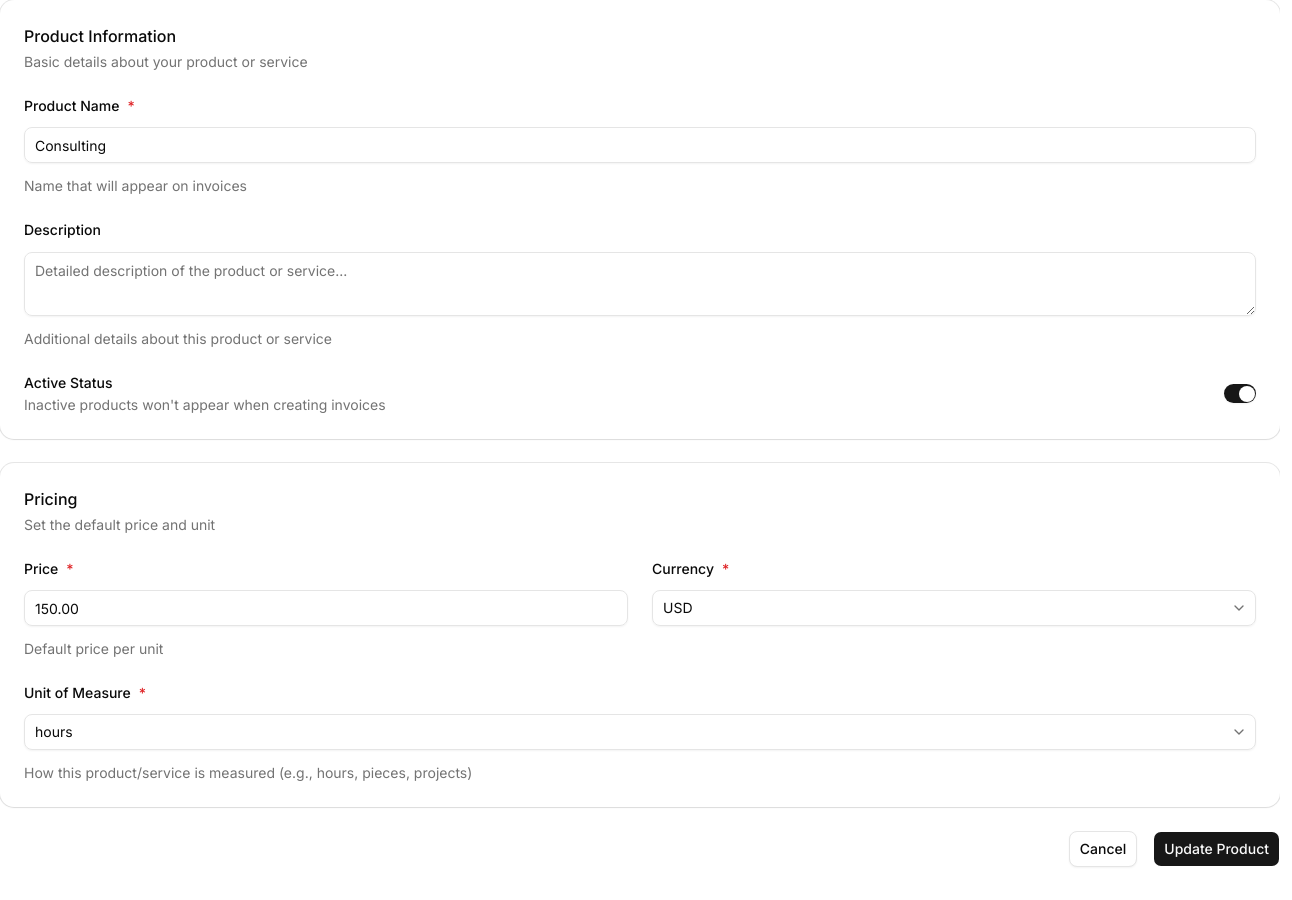
it: ProductForm — price and currency lock (SCR-12) › price -1 shows Price can't be negative. under the price, nothing sent
Replace the text in the field with placeholder "100.00" with "-1" at (326, 608), box [24,590,628,626]
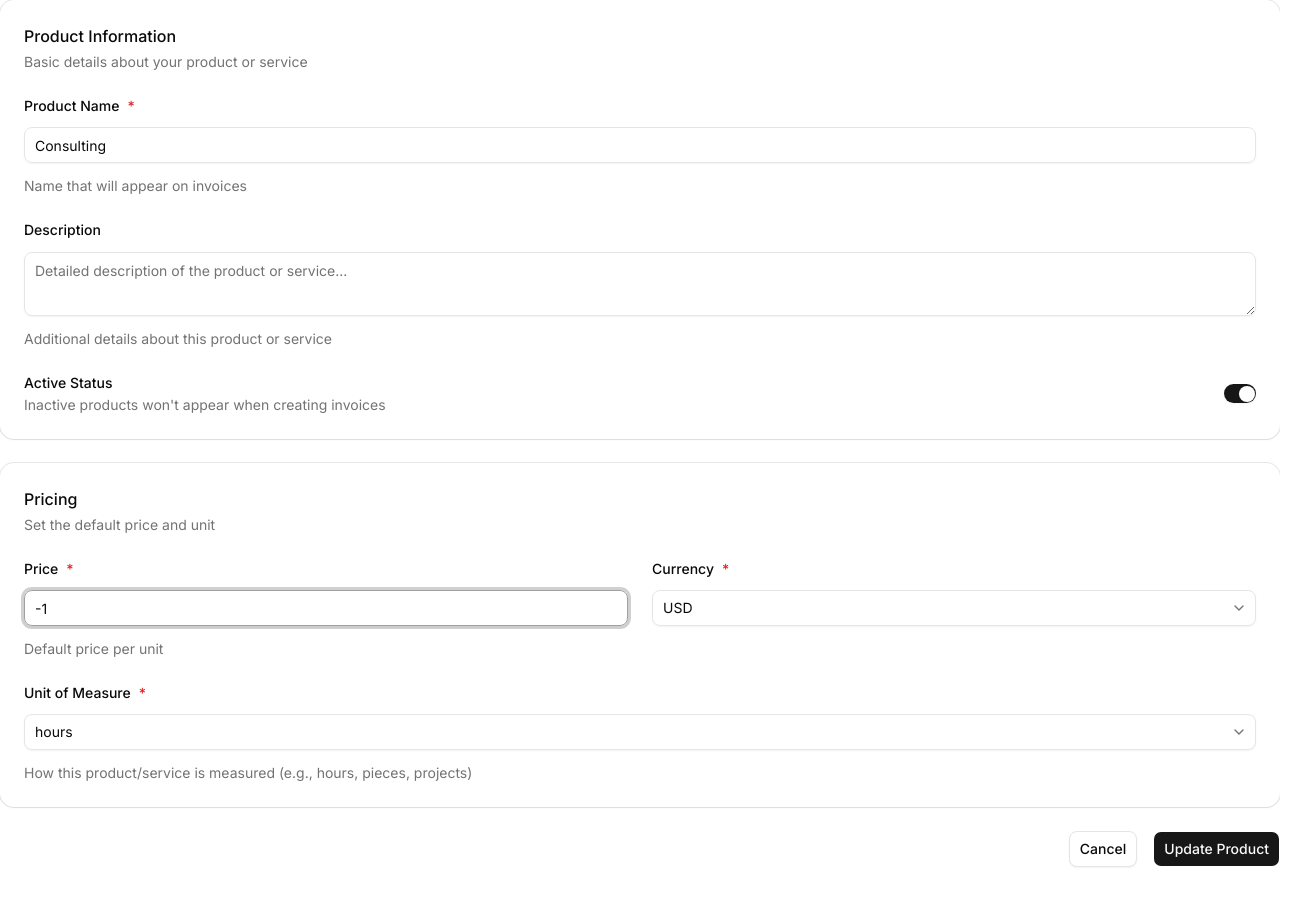
Click the button "Update Product" at (1217, 849), box [1153,831,1280,867]
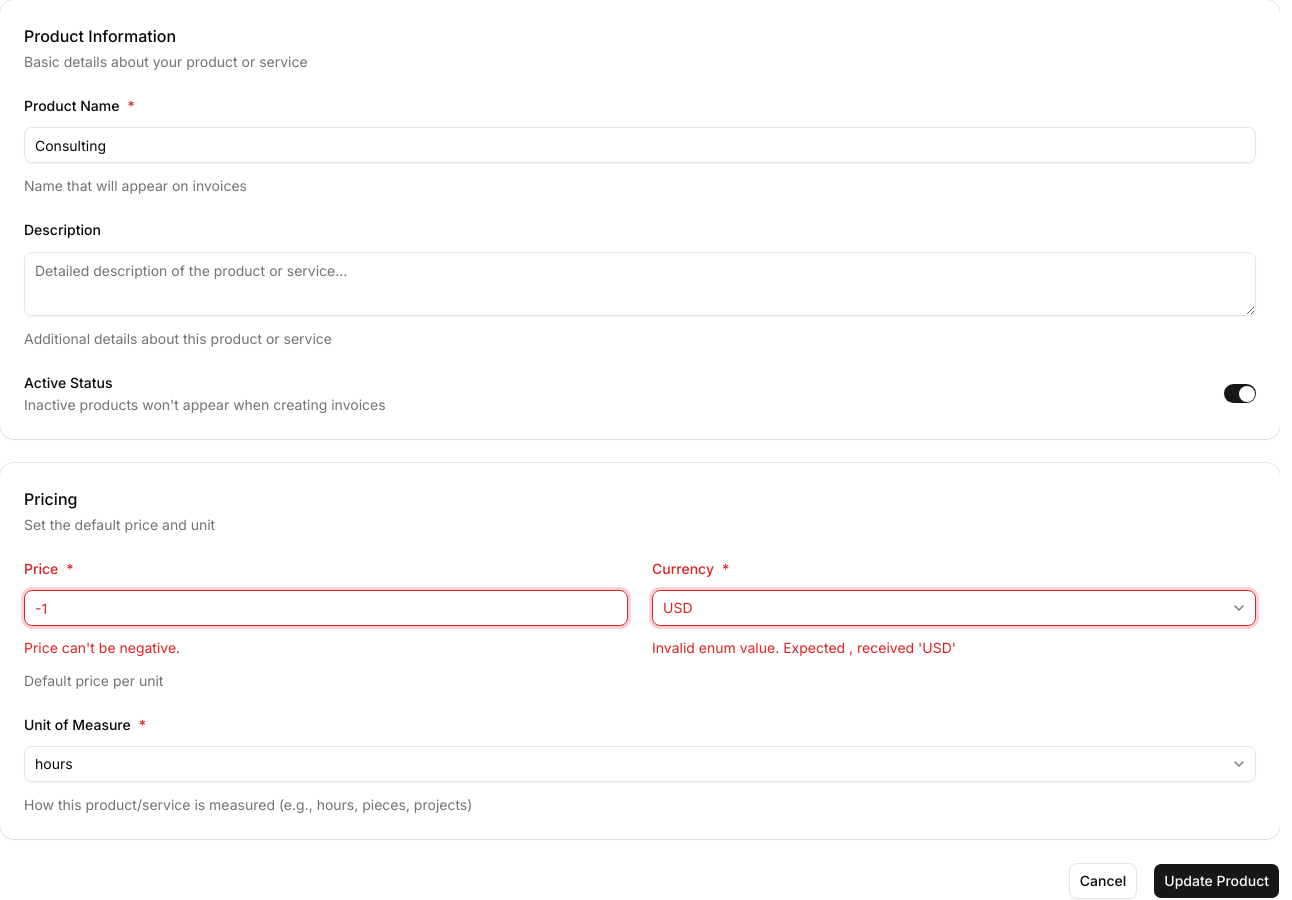
Check: the text "Price can't be negative." is shown, box [24,639,180,656]
